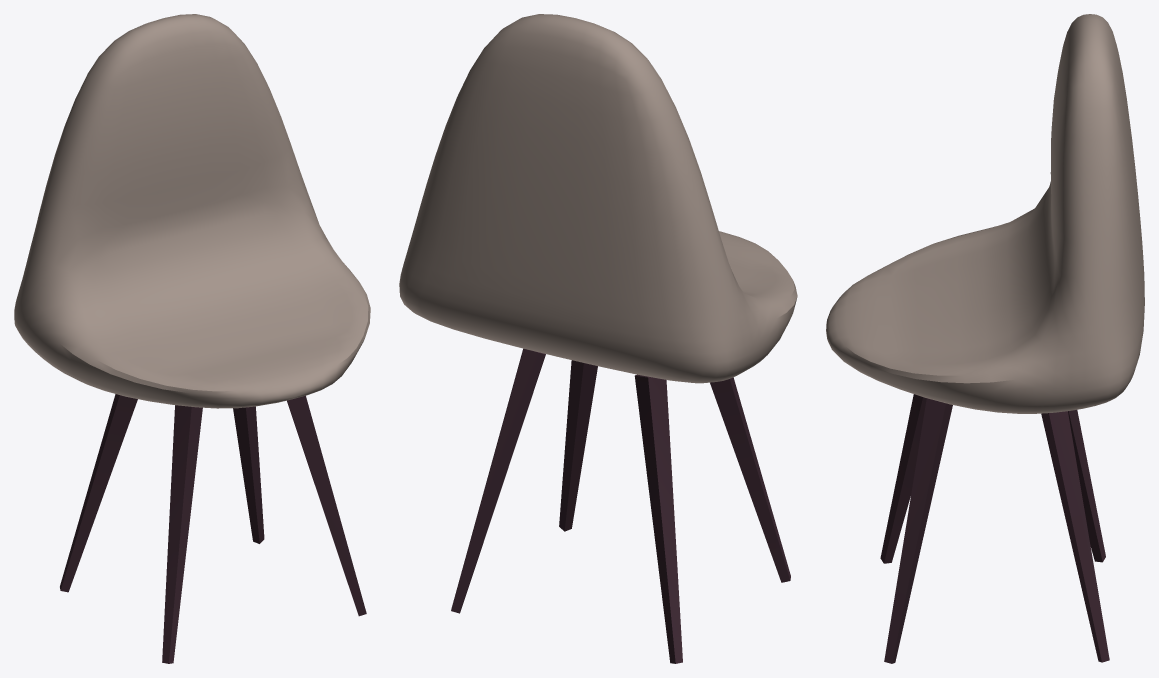
File: Stol big.fbx
The picture shows the model from 3 angles, left to right: view 1: azimuth 30°, elevation 25°; view 2: azimuth 150°, elevation 25°; view 3: azimuth 270°, elevation 25°; orthographic projection. The views are drawn at different scales.
Parts seen in each view (by area): view 1: Stul komnata; view 2: Stul komnata; view 3: Stul komnata.
Part boxes in pixels (x1=…): Stul komnata: x1=14, y1=14, x2=370, y2=663; Stul komnata: x1=399, y1=14, x2=797, y2=663; Stul komnata: x1=826, y1=14, x2=1144, y2=663.
Bounding box in the file's own units: 0.4827 × 0.4186 × 0.8471.
